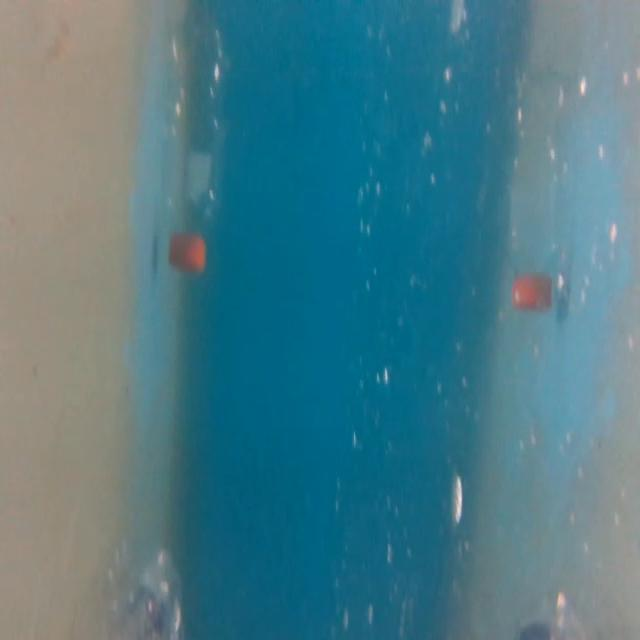plastic bags: (105, 538, 183, 640)
plastic bottle: (159, 21, 236, 278)
